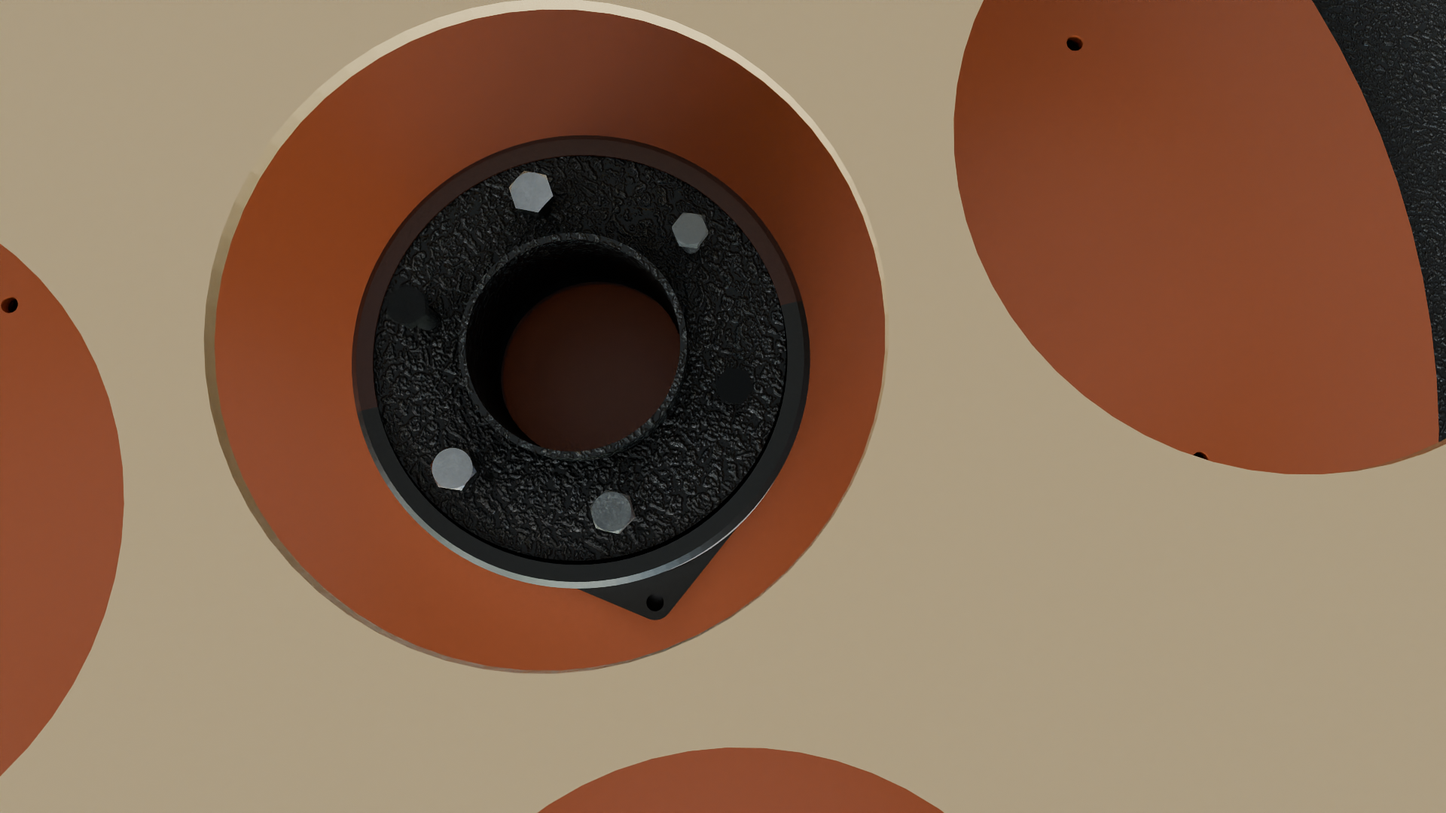bolt: (430, 446, 477, 491), (590, 489, 634, 534), (509, 171, 553, 212), (386, 284, 426, 327), (715, 367, 754, 405), (672, 212, 708, 245)
